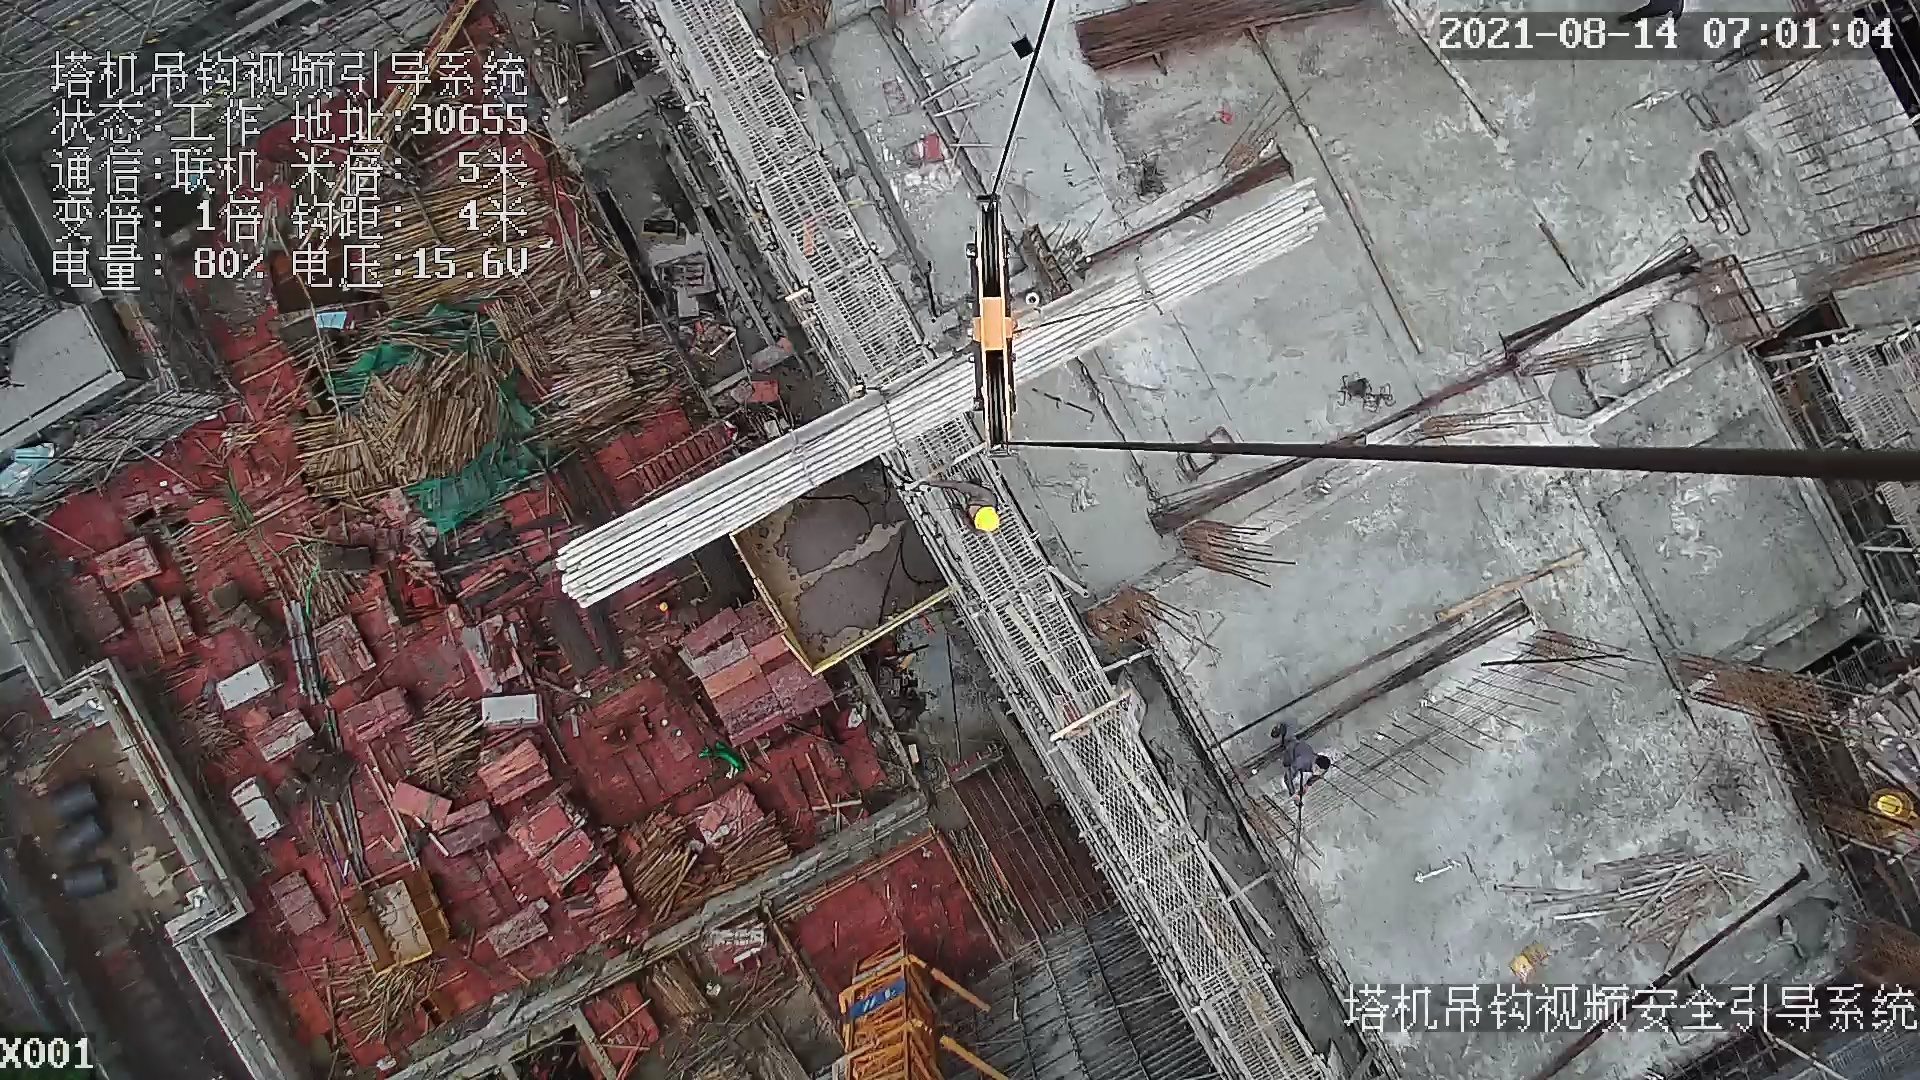helmet: (969, 502, 1001, 534)
hook: (956, 190, 1033, 463)
person: (1259, 713, 1327, 805), (954, 483, 1020, 541)
